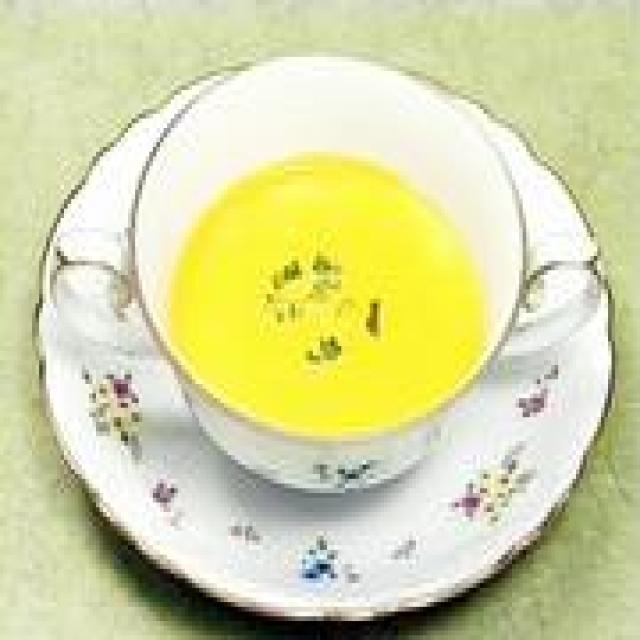汤锅炖物: (24, 42, 629, 640)
